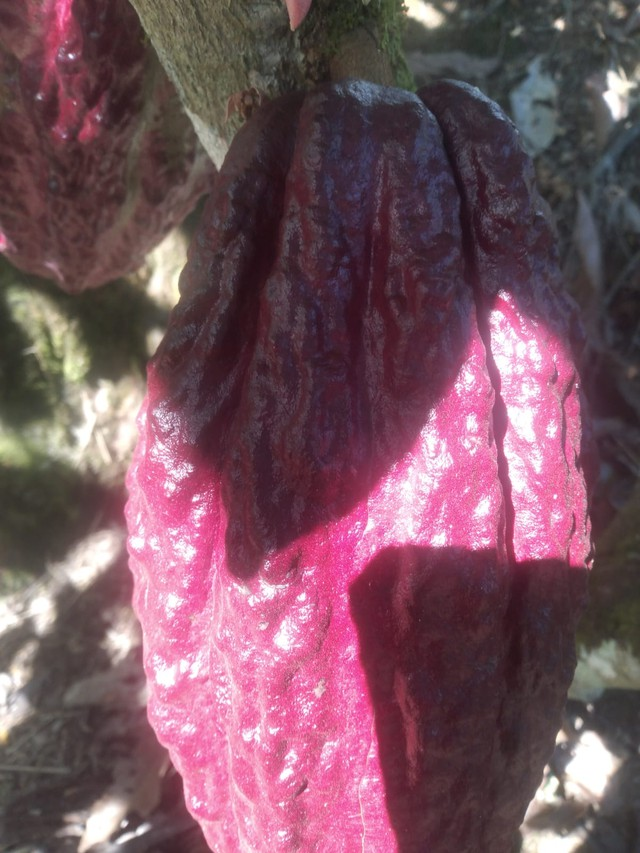Health: (98, 57, 601, 853)
